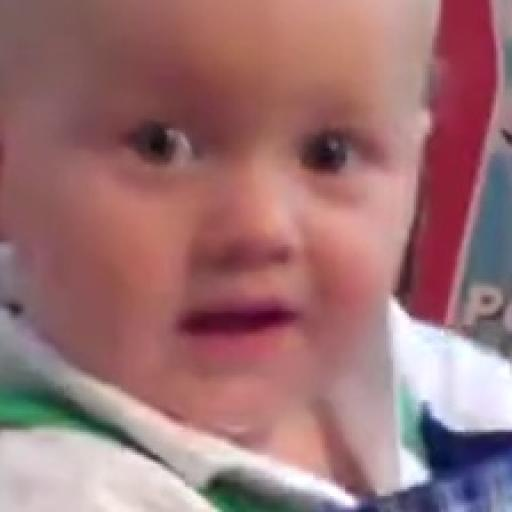Autism: (26, 10, 474, 484)
